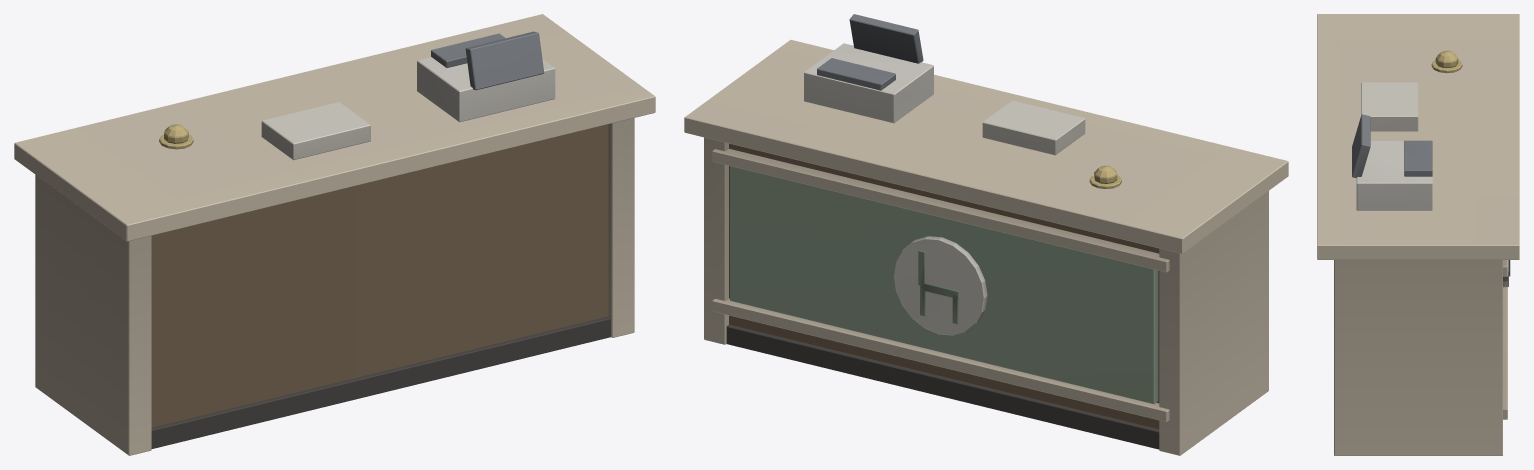
File: mall_counter__f3.glb
3 views of the same model, side by side, from view 1: azimuth 30°, elevation 25°; view 2: azimuth 150°, elevation 25°; view 3: azimuth 270°, elevation 25° (orthographic). The views are drawn at different scales.
Parts seen in each view (by area): view 1: mall.counter__f3; view 2: mall.counter__f3; view 3: mall.counter__f3.
Part boxes in pixels (x1,y1,x2,y2): mall.counter__f3: (14, 14, 655, 455); mall.counter__f3: (684, 14, 1288, 455); mall.counter__f3: (1317, 14, 1519, 455).
Bounding box in the file's own units: 2.3 × 1.28 × 0.85.
